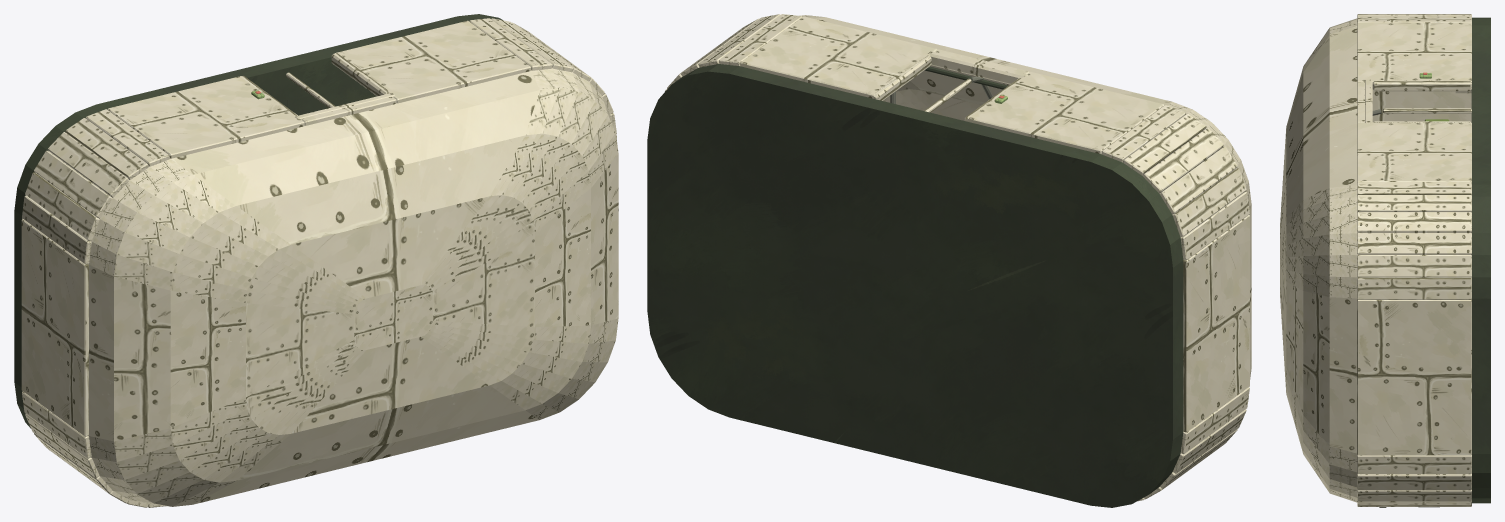
File: ECHO7_08_Cocina_Comedor.obj
3 renders of one model, left to right at view 1: azimuth 30°, elevation 25°; view 2: azimuth 150°, elevation 25°; view 3: azimuth 270°, elevation 25°, orthographic. The views are drawn at different scales.
Visible parts, largest first — view 1: ECHO7_08_Cocina_Comedor__Techo_curvo_49, ECHO7_08_Cocina_Comedor__Techo_curvo_77, ECHO7_08_Cocina_Comedor__Pared_presion_27, ECHO7_08_Cocina_Comedor__Suelo_modulo_01, ECHO7_08_Cocina_Comedor__Techo_curvo_105, ECHO7_08_Cocina_Comedor__Pared_frente_02, ECHO7_08_Cocina_Comedor__Techo_curvo_84, ECHO7_08_Cocina_Comedor__Pared_frente_01, ECHO7_08_Cocina_Comedor__Techo_curvo_56, ECHO7_08_Cocina_Comedor__Techo_curvo_63, ECHO7_08_Cocina_Comedor__Techo_curvo_91, ECHO7_08_Cocina_Comedor__Techo_curvo_21 (+81 smaller); view 2: ECHO7_08_Cocina_Comedor__Suelo_modulo_01, ECHO7_08_Cocina_Comedor__Pared_presion_27, ECHO7_08_Cocina_Comedor__Pared_frente_02, ECHO7_08_Cocina_Comedor__Pared_frente_01, ECHO7_08_Cocina_Comedor__Pared_presion_24, ECHO7_08_Cocina_Comedor__Pared_presion_23, ECHO7_08_Cocina_Comedor__Pared_presion_25, ECHO7_08_Cocina_Comedor__Pared_presion_22, ECHO7_08_Cocina_Comedor__Techo_curvo_21, ECHO7_08_Cocina_Comedor__Pared_presion_26, ECHO7_08_Cocina_Comedor__Pared_presion_21, ECHO7_08_Cocina_Comedor__Techo_curvo_77 (+7 smaller); view 3: ECHO7_08_Cocina_Comedor__Pared_presion_14, ECHO7_08_Cocina_Comedor__Suelo_modulo_01, ECHO7_08_Cocina_Comedor__Pared_frente_01, ECHO7_08_Cocina_Comedor__Pared_frente_02, ECHO7_08_Cocina_Comedor__Techo_curvo_21, ECHO7_08_Cocina_Comedor__Techo_curvo_14, ECHO7_08_Cocina_Comedor__Techo_curvo_49, ECHO7_08_Cocina_Comedor__Techo_curvo_42, ECHO7_08_Cocina_Comedor__Pared_presion_15, ECHO7_08_Cocina_Comedor__Pared_presion_16, ECHO7_08_Cocina_Comedor__Pared_presion_17, ECHO7_08_Cocina_Comedor__Pared_presion_27 (+39 smaller).
Boxes of the visible parts, x1,y1,x2,y2 form: ECHO7_08_Cocina_Comedor__Techo_curvo_49: (193, 90, 539, 205); ECHO7_08_Cocina_Comedor__Techo_curvo_77: (237, 135, 525, 244); ECHO7_08_Cocina_Comedor__Pared_presion_27: (21, 219, 88, 436); ECHO7_08_Cocina_Comedor__Suelo_modulo_01: (14, 14, 502, 428); ECHO7_08_Cocina_Comedor__Techo_curvo_105: (291, 196, 489, 298); ECHO7_08_Cocina_Comedor__Pared_frente_02: (107, 76, 304, 158); ECHO7_08_Cocina_Comedor__Techo_curvo_84: (170, 290, 245, 427); ECHO7_08_Cocina_Comedor__Pared_frente_01: (335, 20, 531, 103); ECHO7_08_Cocina_Comedor__Techo_curvo_56: (114, 276, 170, 441); ECHO7_08_Cocina_Comedor__Techo_curvo_63: (237, 385, 524, 480); ECHO7_08_Cocina_Comedor__Techo_curvo_91: (291, 337, 489, 433); ECHO7_08_Cocina_Comedor__Techo_curvo_21: (171, 71, 539, 174); ECHO7_08_Cocina_Comedor__Suelo_modulo_01: (647, 64, 1183, 507); ECHO7_08_Cocina_Comedor__Pared_presion_27: (1183, 215, 1249, 432); ECHO7_08_Cocina_Comedor__Pared_frente_02: (967, 72, 1164, 154); ECHO7_08_Cocina_Comedor__Pared_frente_01: (740, 16, 937, 98); ECHO7_08_Cocina_Comedor__Pared_presion_24: (1159, 146, 1237, 214); ECHO7_08_Cocina_Comedor__Pared_presion_23: (1143, 128, 1223, 193); ECHO7_08_Cocina_Comedor__Pared_presion_25: (1172, 168, 1246, 236); ECHO7_08_Cocina_Comedor__Pared_presion_22: (1123, 113, 1206, 175); ECHO7_08_Cocina_Comedor__Techo_curvo_21: (814, 17, 1172, 105); ECHO7_08_Cocina_Comedor__Pared_presion_26: (1180, 191, 1249, 260); ECHO7_08_Cocina_Comedor__Pared_presion_21: (1101, 105, 1185, 162); ECHO7_08_Cocina_Comedor__Techo_curvo_77: (910, 65, 1009, 104); ECHO7_08_Cocina_Comedor__Pared_presion_14: (1357, 299, 1471, 455); ECHO7_08_Cocina_Comedor__Suelo_modulo_01: (1472, 17, 1490, 503); ECHO7_08_Cocina_Comedor__Pared_frente_01: (1357, 122, 1471, 182); ECHO7_08_Cocina_Comedor__Pared_frente_02: (1357, 22, 1471, 82); ECHO7_08_Cocina_Comedor__Techo_curvo_21: (1329, 26, 1357, 187); ECHO7_08_Cocina_Comedor__Techo_curvo_14: (1329, 297, 1357, 453); ECHO7_08_Cocina_Comedor__Techo_curvo_49: (1303, 35, 1329, 199); ECHO7_08_Cocina_Comedor__Techo_curvo_42: (1303, 291, 1329, 445); ECHO7_08_Cocina_Comedor__Pared_presion_15: (1357, 277, 1471, 299); ECHO7_08_Cocina_Comedor__Pared_presion_16: (1357, 255, 1471, 277); ECHO7_08_Cocina_Comedor__Pared_presion_17: (1357, 232, 1471, 254); ECHO7_08_Cocina_Comedor__Pared_presion_27: (1372, 90, 1471, 122).
Size of the model in its own units: 16.22 by 10.35 by 6.15.
7 materials, 7 textured.
